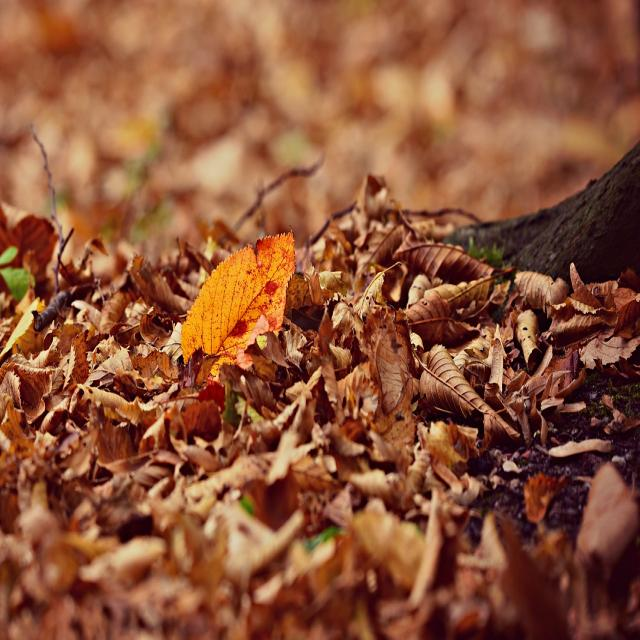organic waste: (1, 391, 393, 640), (328, 165, 503, 455), (115, 232, 356, 430), (0, 115, 112, 391)
